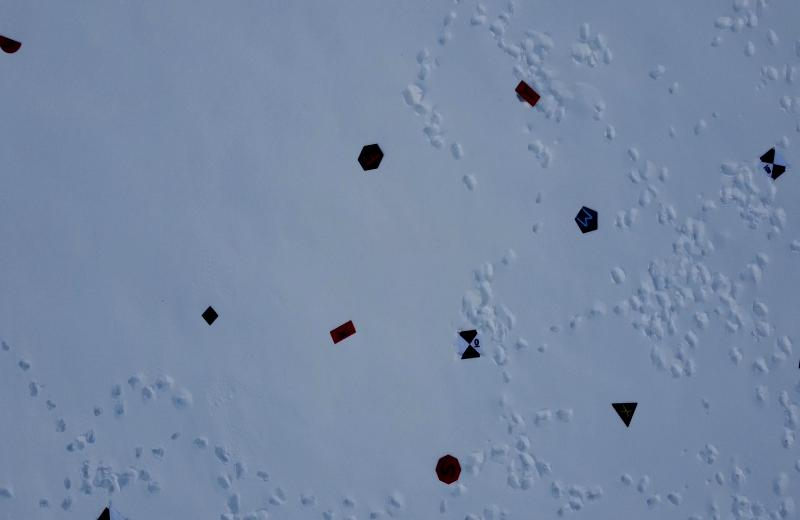Hexagon: (352, 141, 386, 171)
Octagon: (434, 454, 463, 487)
Pentagon: (572, 203, 600, 236)
Rectangle: (326, 318, 360, 349), (514, 79, 541, 111)
Semi Circle: (0, 31, 27, 54)
Square: (200, 305, 220, 325)
Triangle: (609, 393, 640, 431)
